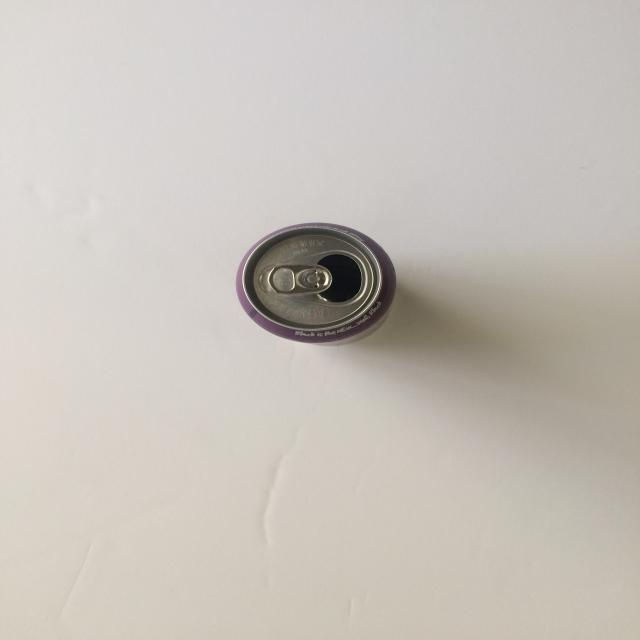Metal: (225, 214, 411, 360)
